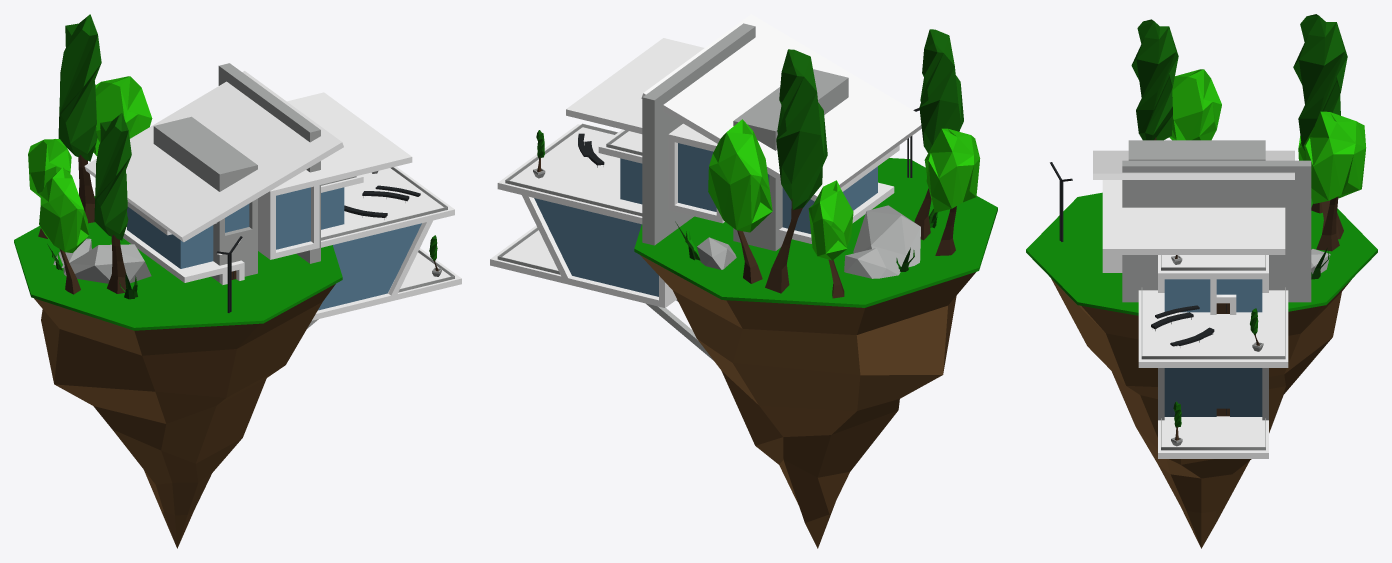
Rendered from low_poly_modern_house.glb.
3 renders of one model, left to right at view 1: azimuth 30°, elevation 25°; view 2: azimuth 150°, elevation 25°; view 3: azimuth 270°, elevation 25°, orthographic. The views are drawn at different scales.
Visible parts, largest first — view 1: Flat Grass; view 2: Flat Grass; view 3: Flat Grass.
Part boxes in pixels (left/top/right/bottom): Flat Grass: left=14, top=14, right=461, bottom=548; Flat Grass: left=490, top=14, right=997, bottom=548; Flat Grass: left=1026, top=14, right=1377, bottom=548.
Bounding box in the file's own units: 75.08 × 87.69 × 54.
Materials: 1 (1 with a texture image).
